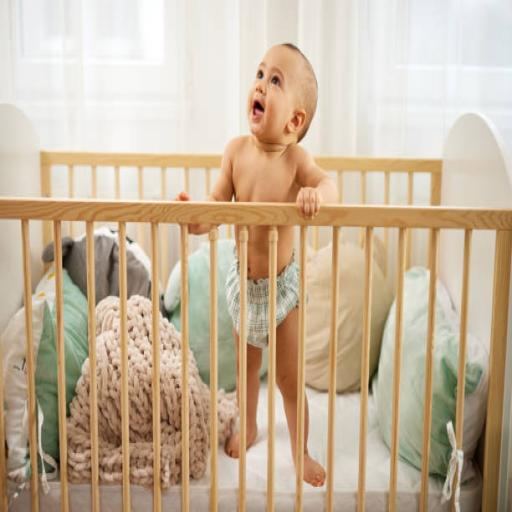baby: (206, 44, 337, 218)
crib: (0, 154, 511, 510)
